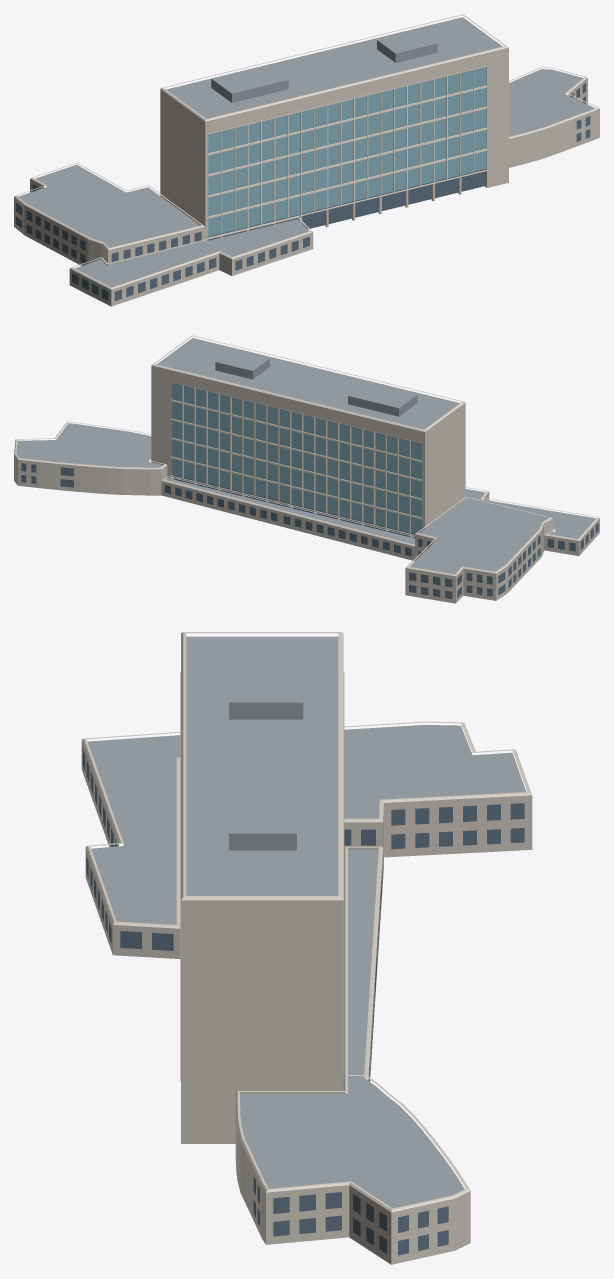
The model's file is nola-city-hall.glb.
3 views of the same model, one above another, from view 1: azimuth 30°, elevation 25°; view 2: azimuth 150°, elevation 25°; view 3: azimuth 270°, elevation 25° (orthographic). The views are drawn at different scales.
Parts seen in each view (by area): view 1: New Orleans City Hall; view 2: New Orleans City Hall; view 3: New Orleans City Hall.
Boxes of the visible parts, x1,y1,x2,y2 form: New Orleans City Hall: (14,14,599,306); New Orleans City Hall: (14,335,599,603); New Orleans City Hall: (81,632,532,1264).
Size of the model in its own units: 192 by 46.1 by 72.6.
